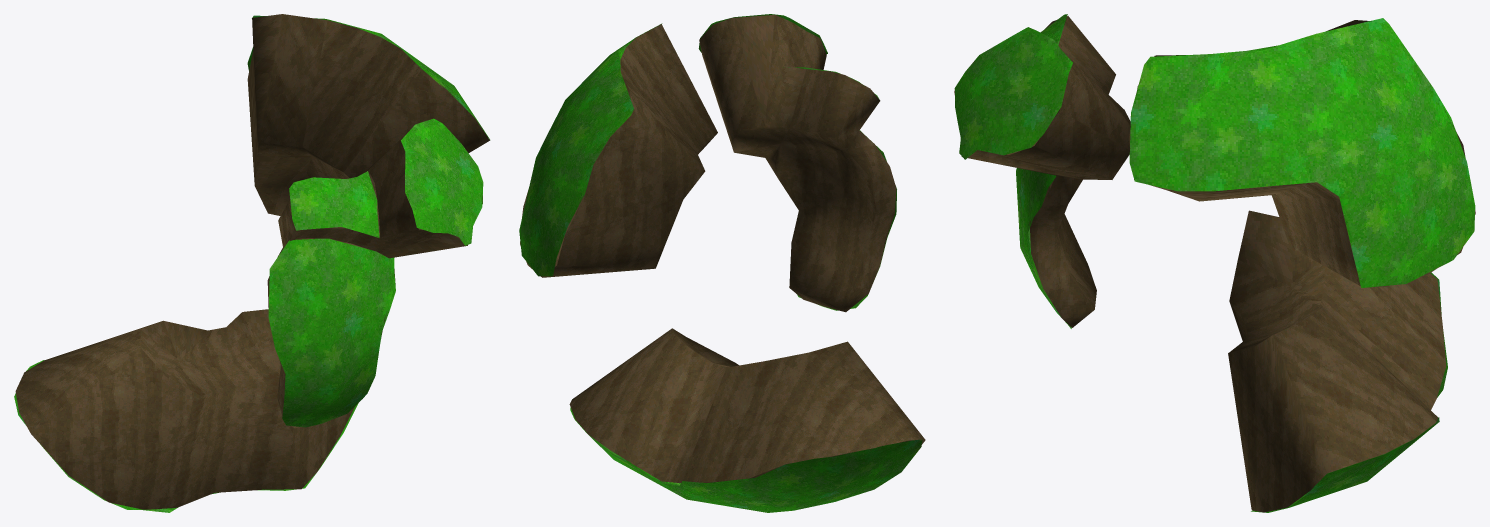
The model's file is HikeGardenTicoHungerPlanetLow.fbx.
3 views of the same model, side by side, from view 1: azimuth 30°, elevation 25°; view 2: azimuth 150°, elevation 25°; view 3: azimuth 270°, elevation 25° (orthographic). The views are drawn at different scales.
Visible parts, largest first — view 1: Sphere.000, Sphere.001; view 2: Sphere.000, Sphere.001; view 3: Sphere.001, Sphere.000.
Boxes of the visible parts, left/top/right/bottom form: Sphere.000: left=15, top=14, right=489, bottom=509; Sphere.001: left=14, top=15, right=489, bottom=512; Sphere.000: left=520, top=15, right=925, bottom=482; Sphere.001: left=519, top=14, right=922, bottom=512; Sphere.001: left=954, top=14, right=1475, bottom=512; Sphere.000: left=954, top=16, right=1475, bottom=512.
Bounding box in the file's own units: 866430 × 896017 × 832780.
Materials: 2 (2 with a texture image).
